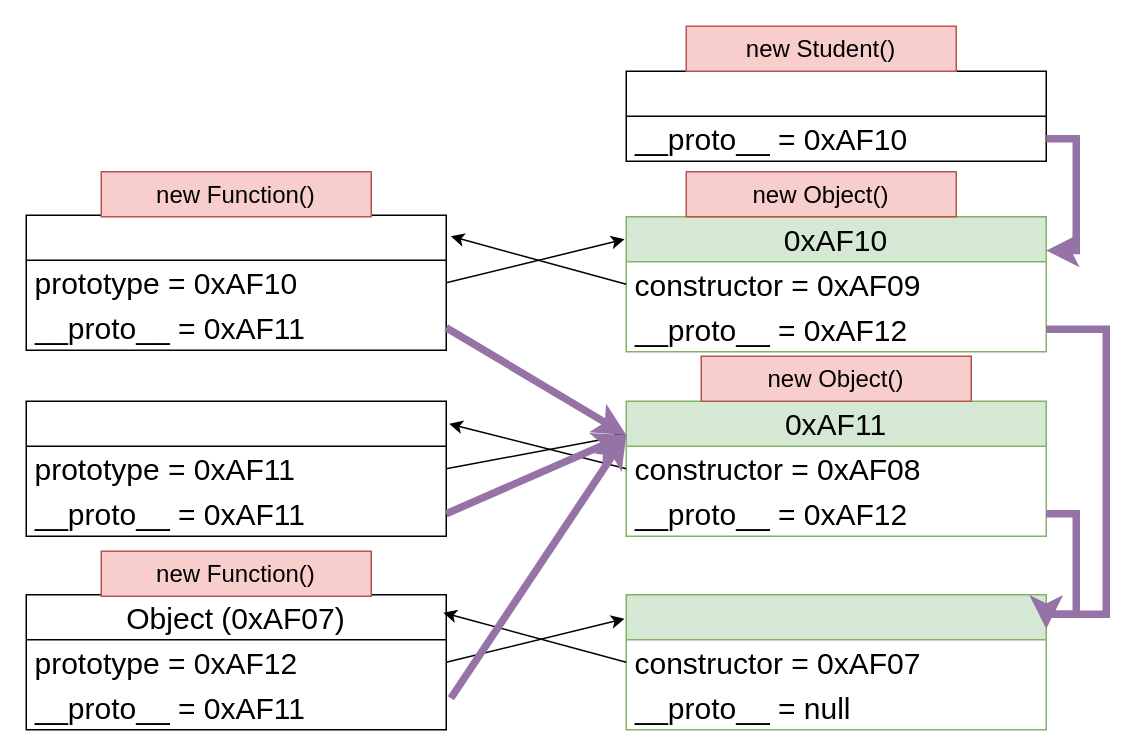
Some shapes in this 1148 by 756 pixel diagram are drawn without their labels. Each missing label, with the box of its shape:
0xAF12: (625, 593, 1046, 730)
Function (0xAF08): (25, 400, 446, 536)
s1: (625, 70, 1046, 161)
Student (0xAF09): (25, 214, 446, 350)
